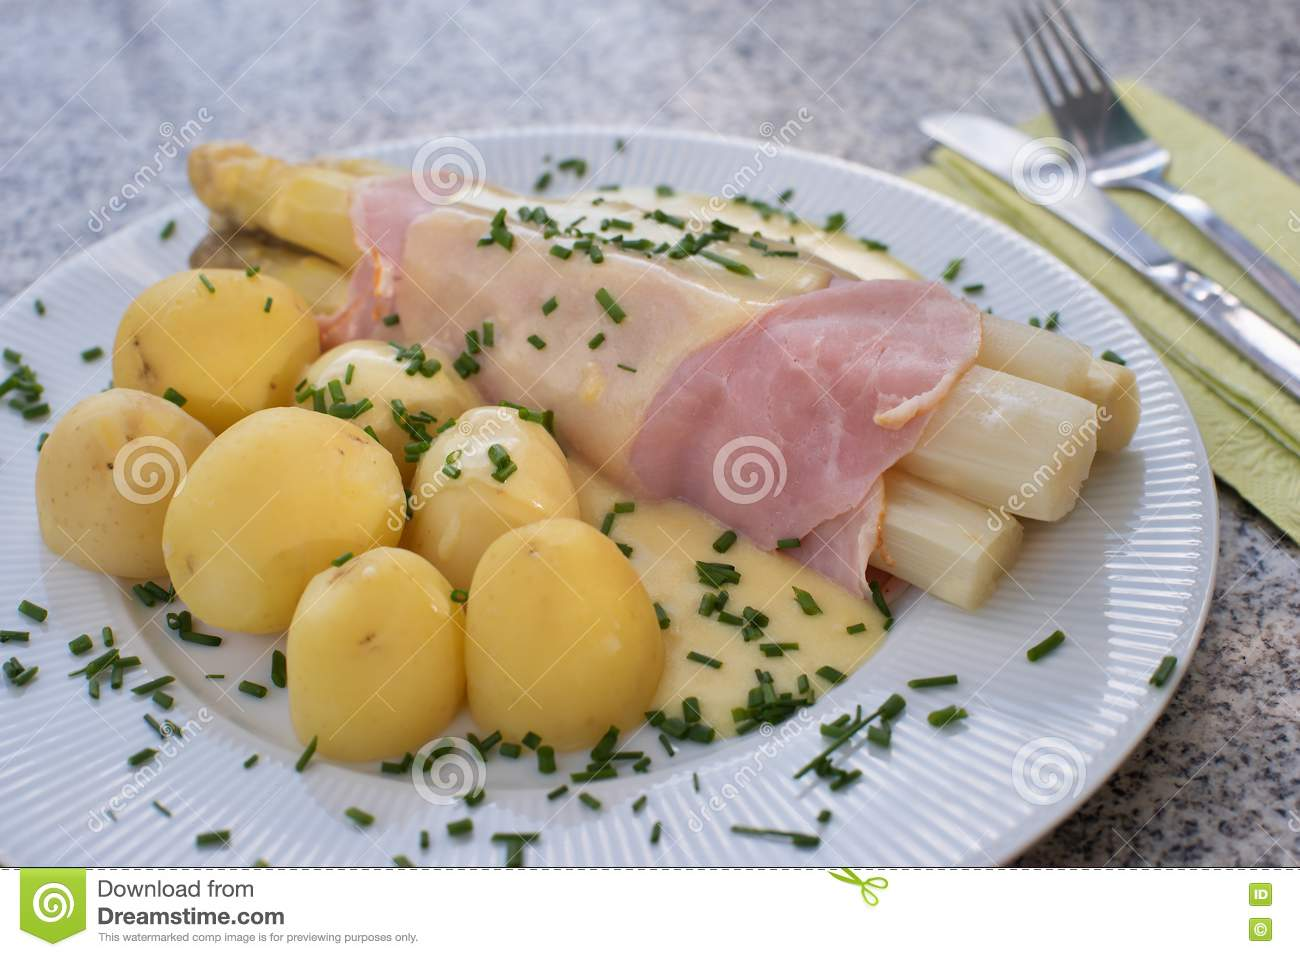boiled potatoes: (48, 275, 653, 761)
